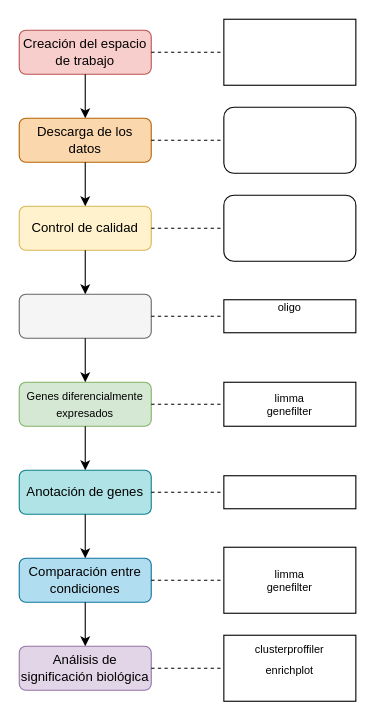
Image size: 375x721. Some labels were removed from this diagram. Here are the shapes that lost their labels. From the top down, the box of each, then its label:
(223, 18, 356, 85): s etwd("...") dir.create("data") dir.create("results") setwd('./data')
(223, 106, 356, 173): Descarga manual Biobase GEOquery
(223, 194, 356, 261): arrayQualityMetrics ggplot2
(18, 293, 151, 338): Normalización
(223, 475, 356, 509): ecoli2.db
